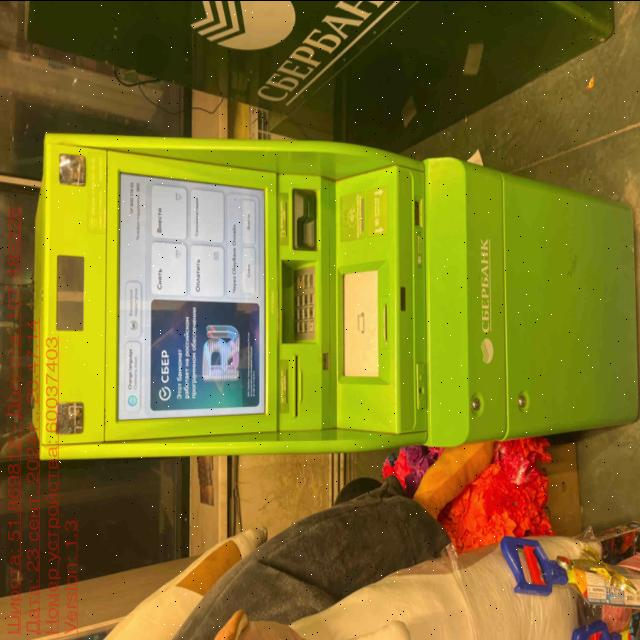bank: (29, 129, 638, 464), (22, 0, 617, 144)
